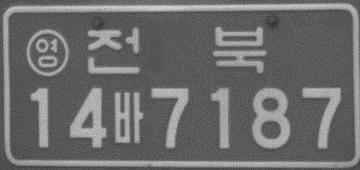1: (201, 86, 242, 150), (23, 86, 63, 149)
4: (69, 87, 107, 149)
7: (301, 86, 341, 150), (150, 86, 190, 149)
8: (250, 86, 290, 149)
바: (112, 90, 144, 144)
영: (24, 28, 69, 78)
전북_D: (85, 25, 266, 75)
